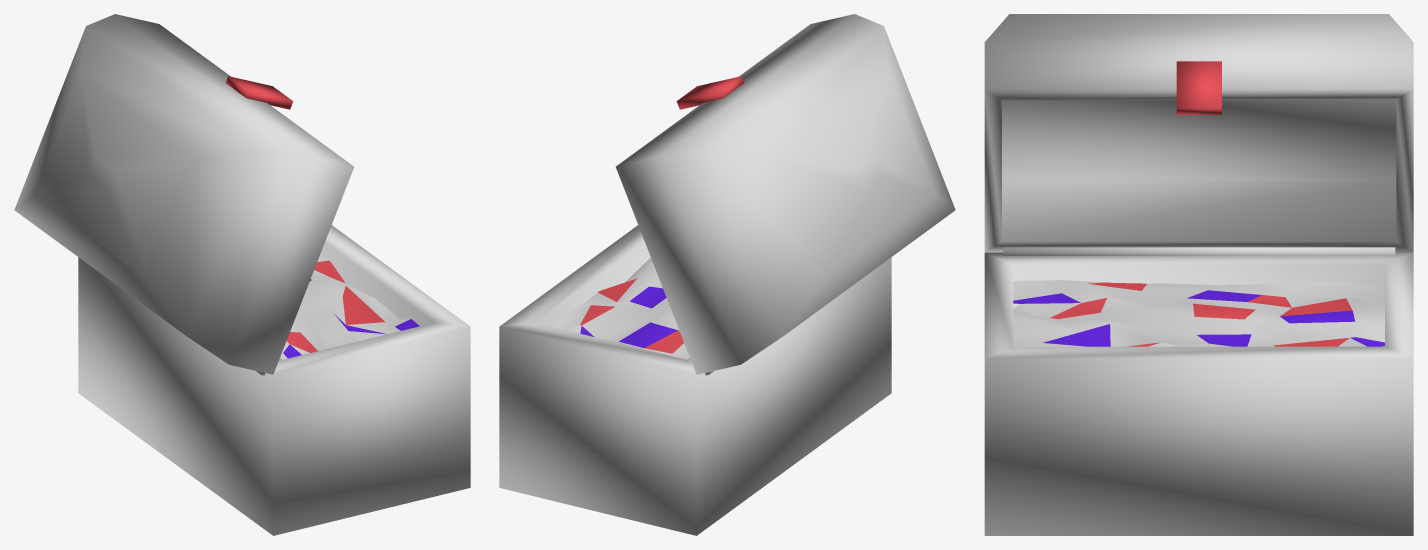
File: Treasure.fbx
3 renders of one model, left to right at view 1: azimuth 30°, elevation 25°; view 2: azimuth 150°, elevation 25°; view 3: azimuth 270°, elevation 25°, orthographic. The views are drawn at different scales.
Parts seen in each view (by area): view 1: Cylinder, Cube, Plane; view 2: Cylinder, Cube, Plane; view 3: Cylinder, Cube, Plane.
Boxes of the visible parts, x1,y1,x2,y2 form: Cylinder: [14, 14, 353, 375]; Cube: [78, 225, 470, 535]; Plane: [280, 255, 419, 359]; Cylinder: [616, 14, 955, 375]; Cube: [499, 225, 891, 535]; Plane: [552, 258, 689, 359]; Cylinder: [984, 14, 1413, 255]; Cube: [984, 252, 1413, 535]; Plane: [1013, 280, 1384, 346].
Bounding box in the file's own units: 367 × 467 × 439.
